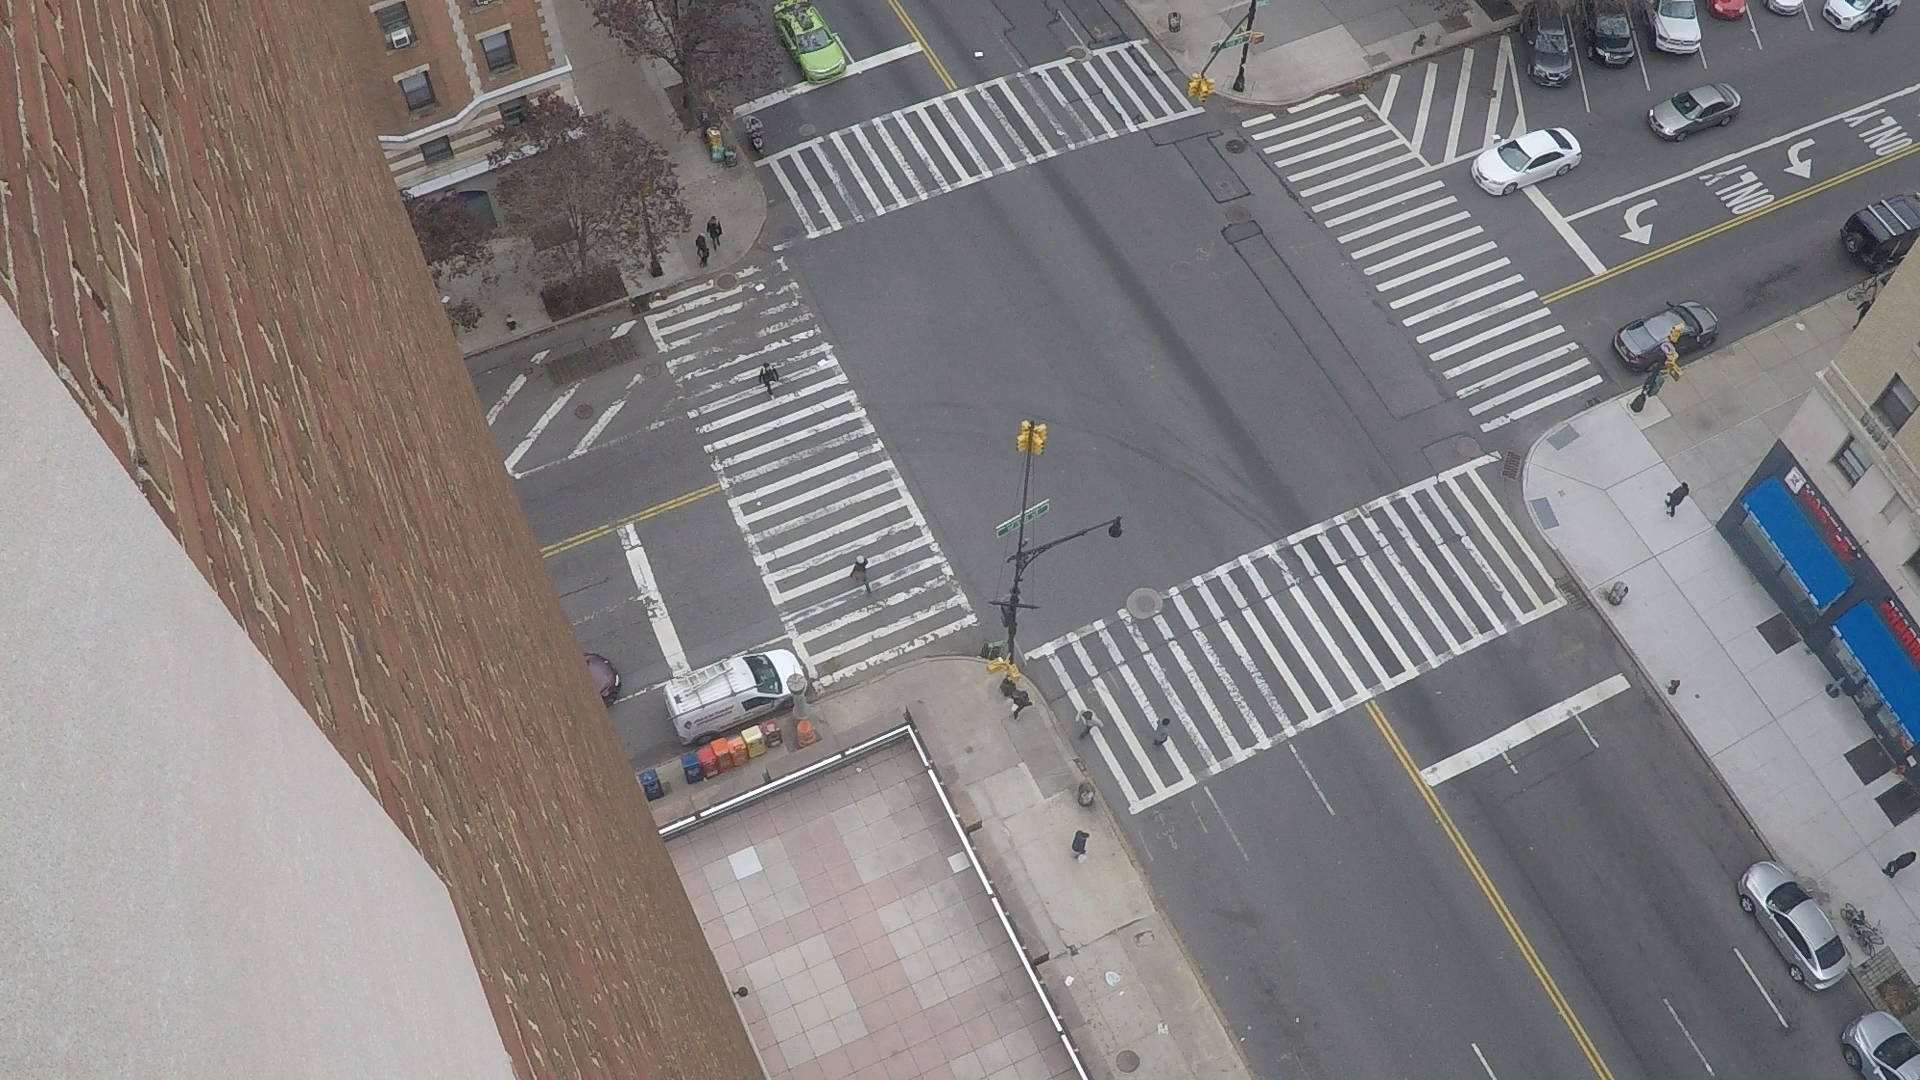Car: (814, 0, 845, 58), (795, 654, 799, 662), (1692, 300, 1701, 303), (1763, 0, 1764, 3)
Pedestrian: (757, 119, 762, 123), (769, 363, 774, 367), (860, 554, 866, 557), (1081, 831, 1085, 833), (1016, 689, 1022, 690), (1086, 708, 1092, 710), (701, 234, 704, 236), (715, 216, 716, 218)
